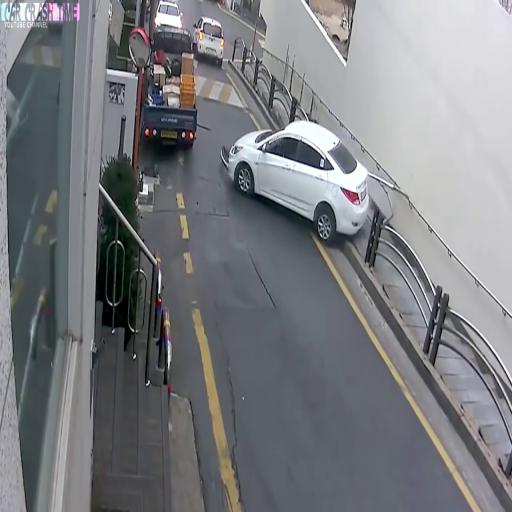小汽车: (230, 124, 370, 242), (141, 25, 197, 149), (194, 16, 226, 66)
